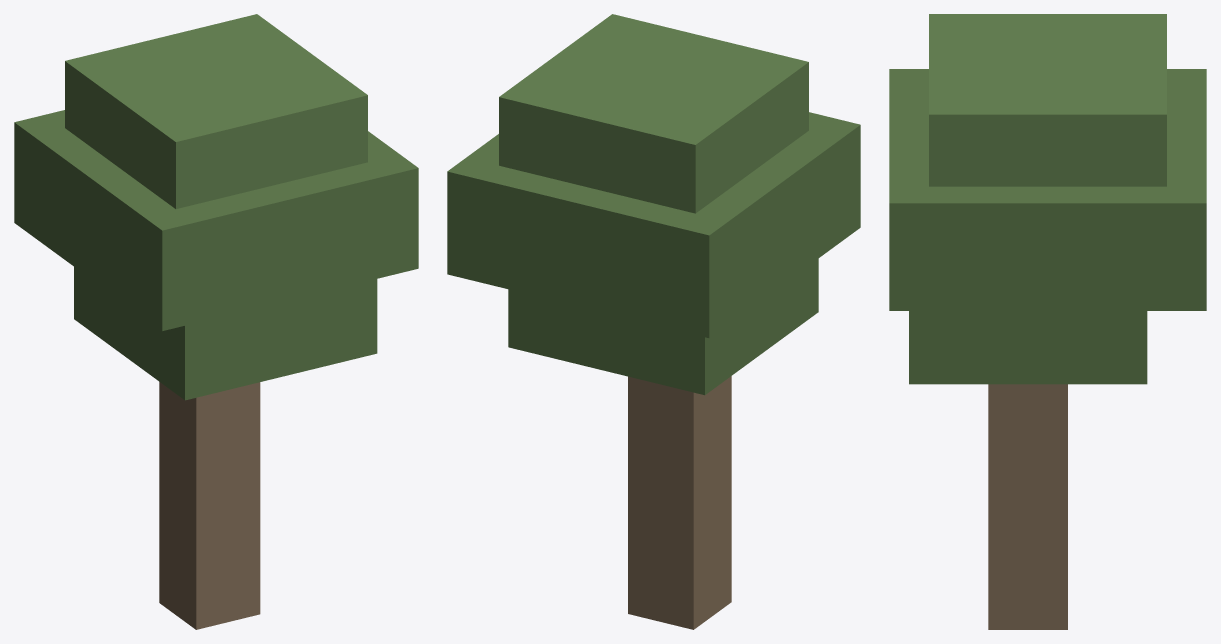
File: encina_07.glb
3 renders of one model, left to right at view 1: azimuth 30°, elevation 25°; view 2: azimuth 150°, elevation 25°; view 3: azimuth 270°, elevation 25°, orthographic. The views are drawn at different scales.
Visible parts, largest first — view 1: encina_07; view 2: encina_07; view 3: encina_07.
Part boxes in pixels (bbox=[...]): encina_07: bbox=[14, 14, 418, 629]; encina_07: bbox=[447, 14, 860, 629]; encina_07: bbox=[889, 14, 1206, 629].
Bounding box in the file's own units: 1.6 × 3.1 × 1.6.
